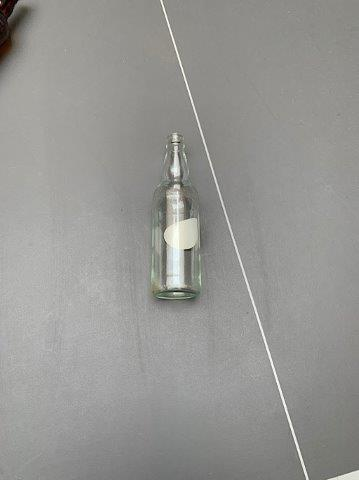botolkaca: (155, 133, 201, 298)
